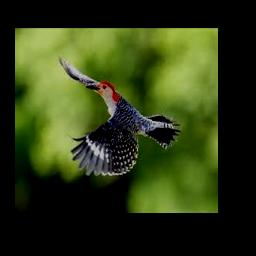Woodpecker: (59, 55, 180, 176)
